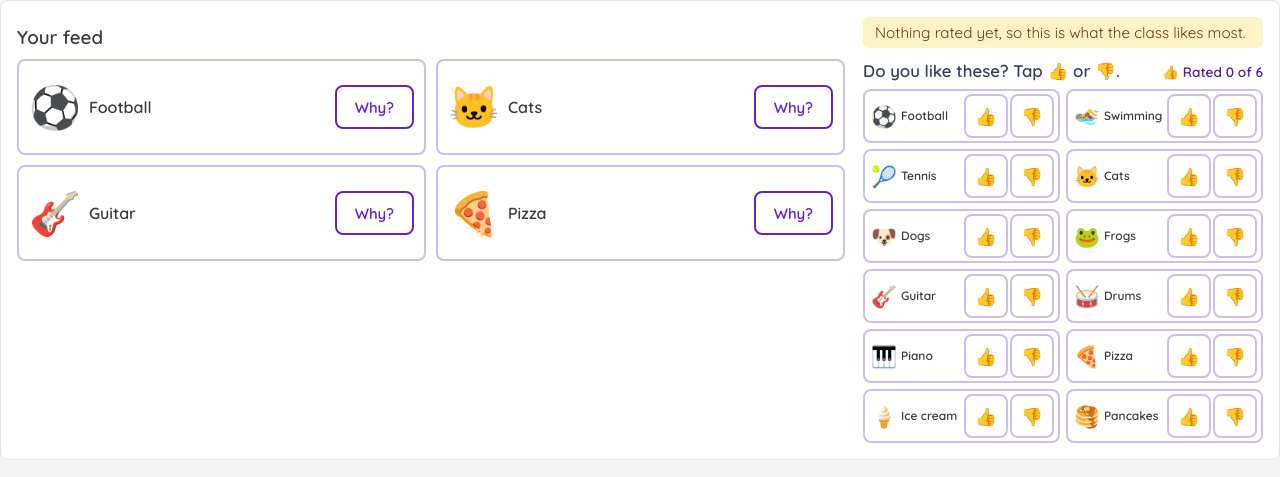
Test: Recommender UI › opens Why? with the names of the raters and marks it in the state
Click the button named "Like Football".
click(986, 116)  # box [964, 94, 1008, 138]
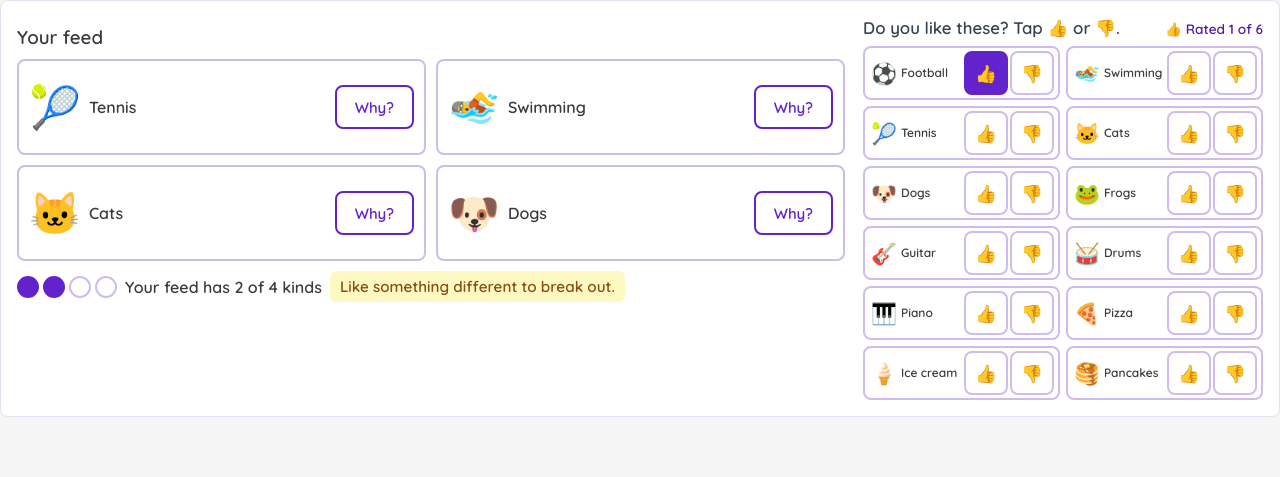
Click the button named "Like Swimming".
click(1189, 73)  # box [1167, 51, 1211, 95]
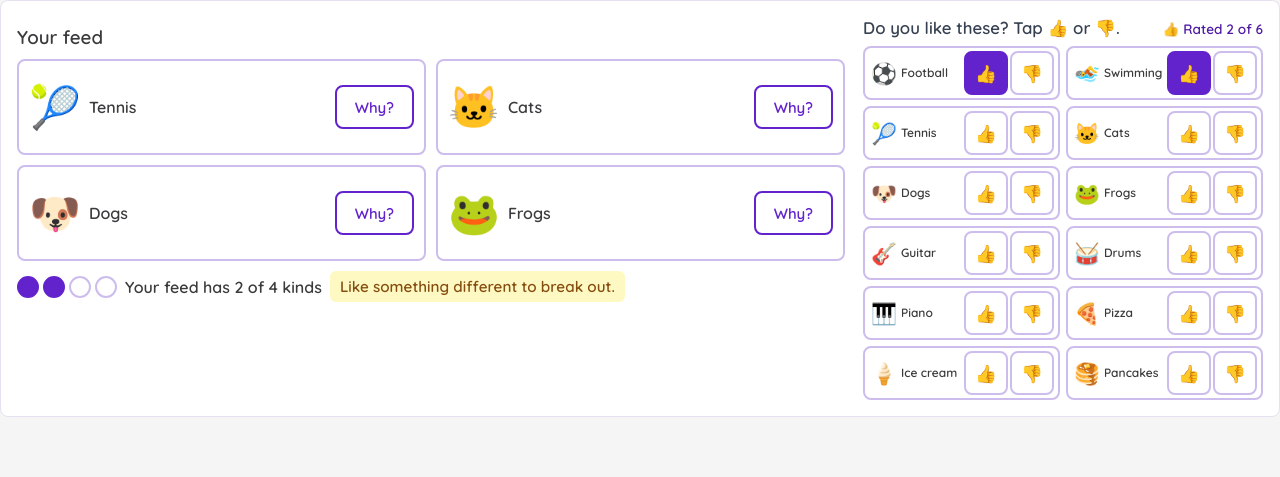
Click the button with aria-label "Why Tennis?".
click(374, 107)  # box [335, 85, 414, 129]
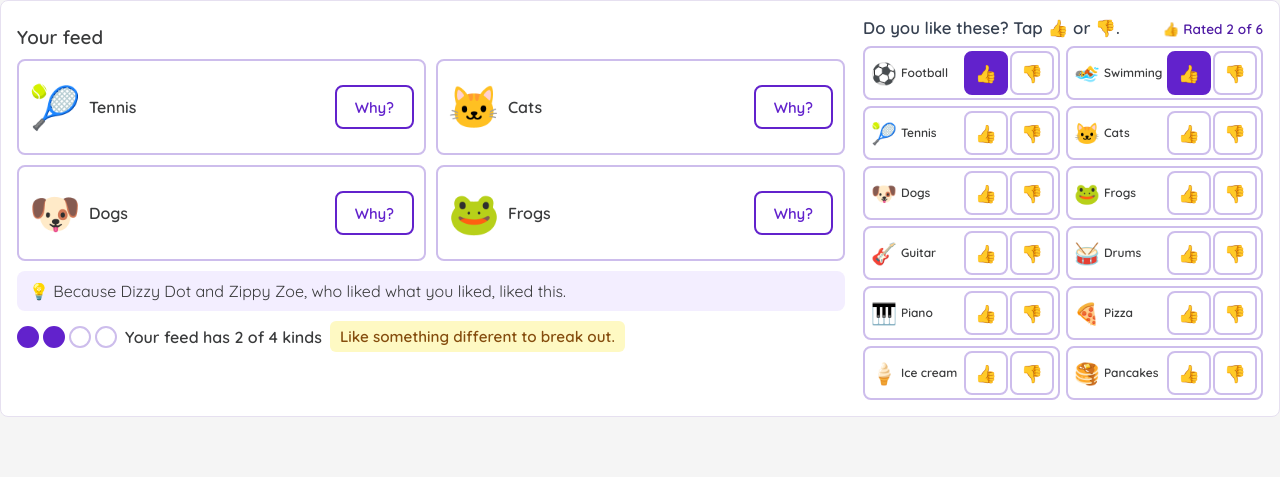
Now the message with test id "recommender-because" reads "💡 Because Dizzy Dot and Zippy Zoe, who liked what you liked, liked this.", box [53, 281, 566, 301]
